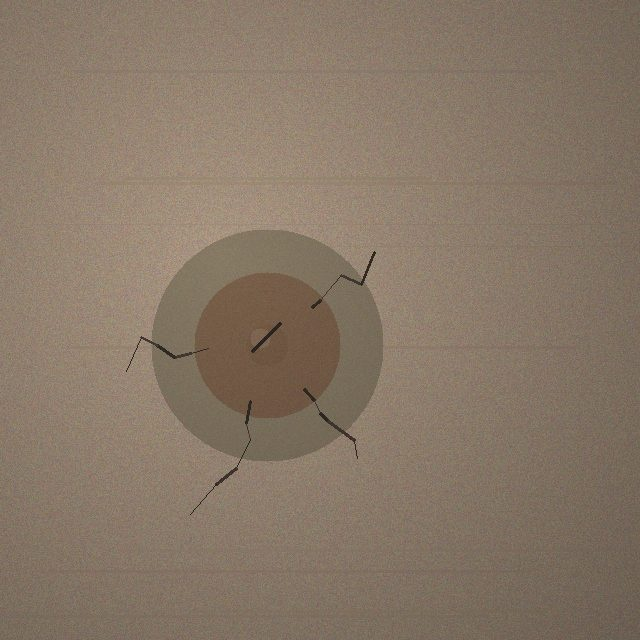crack: (151, 229, 383, 461)
